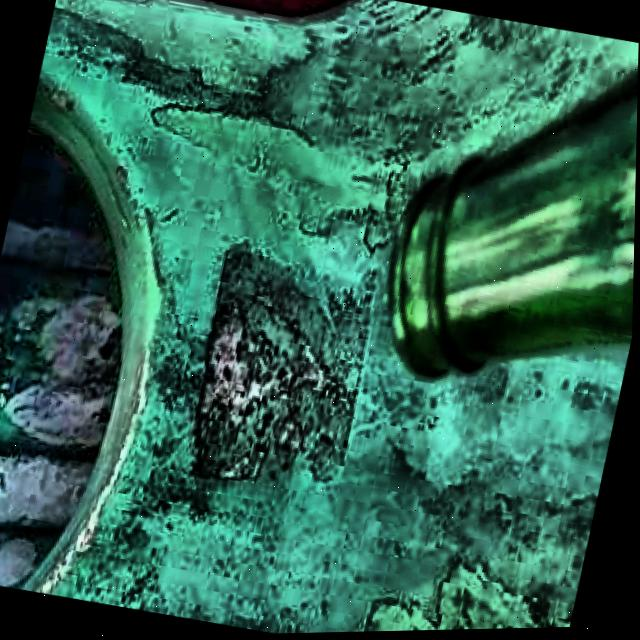glass: (395, 73, 639, 377)
